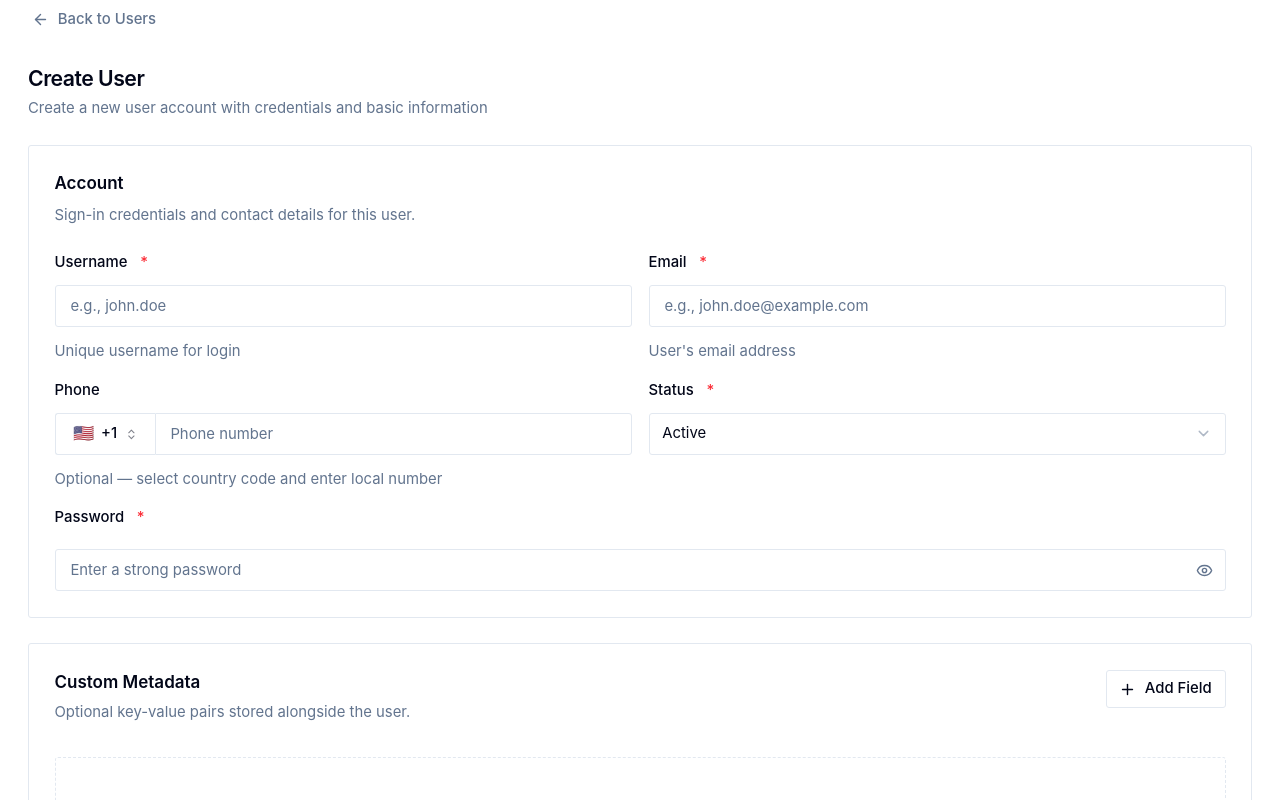
Test: UserAddOrUpdateForm › shows field validation errors for a weak password and a too-short phone on create
Type "newuser" into the field labelled "Username *".
click(343, 306); type("newuser")  # box [54,285,632,328]
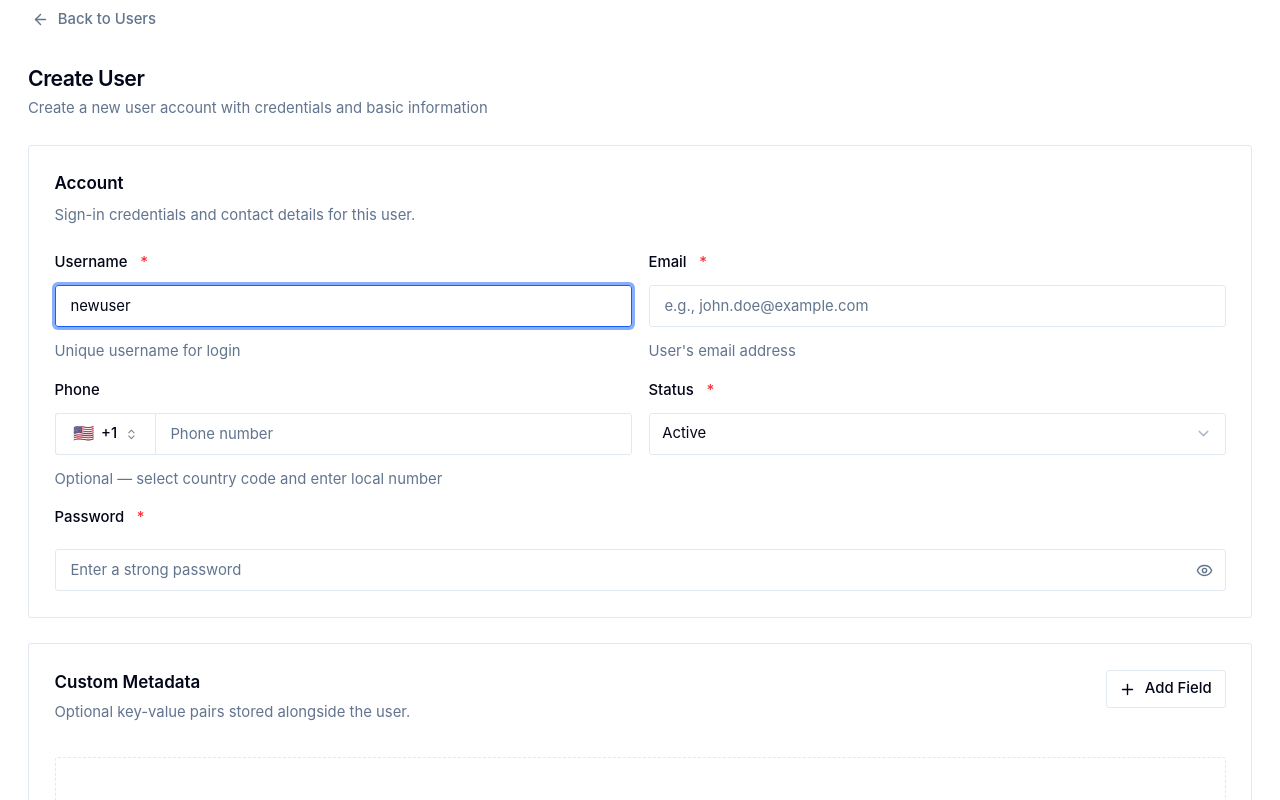
Type "new@test.com" into the field labelled "Email *".
click(937, 306); type("new@test.com")  # box [648,285,1226,328]
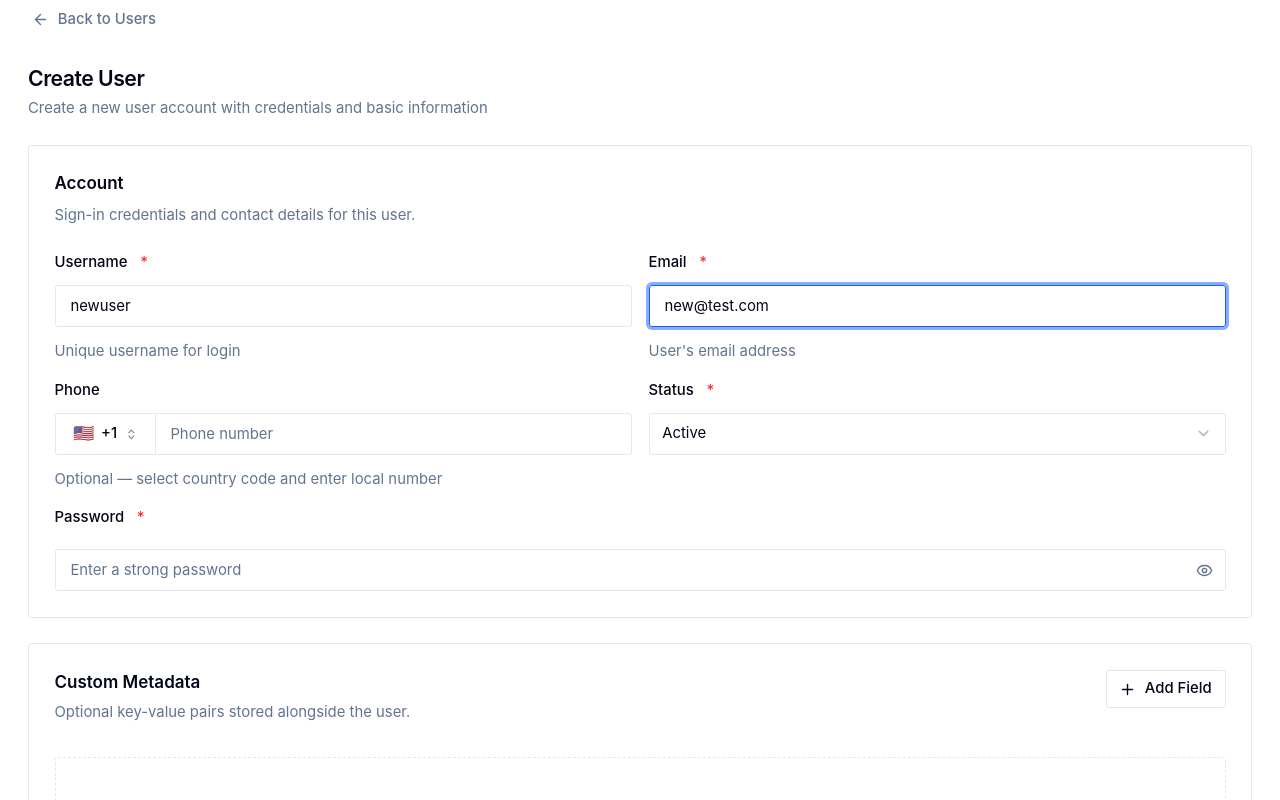
Type "123" into the field labelled "Phone".
click(393, 434); type("123")  # box [154,413,632,455]
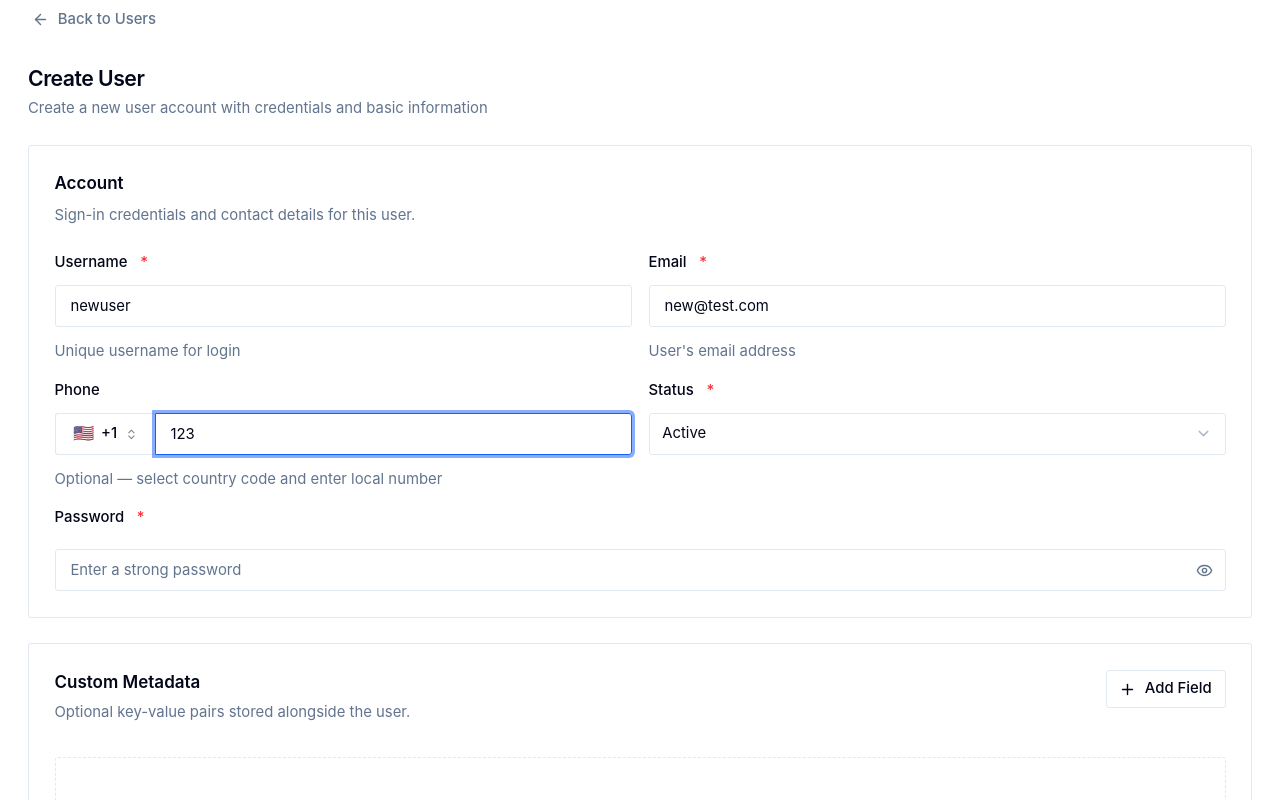
Type "Aa1!" into the password field labelled "Password *".
click(640, 570); type("Aa1!")  # box [54,549,1226,592]
(page scrolled)
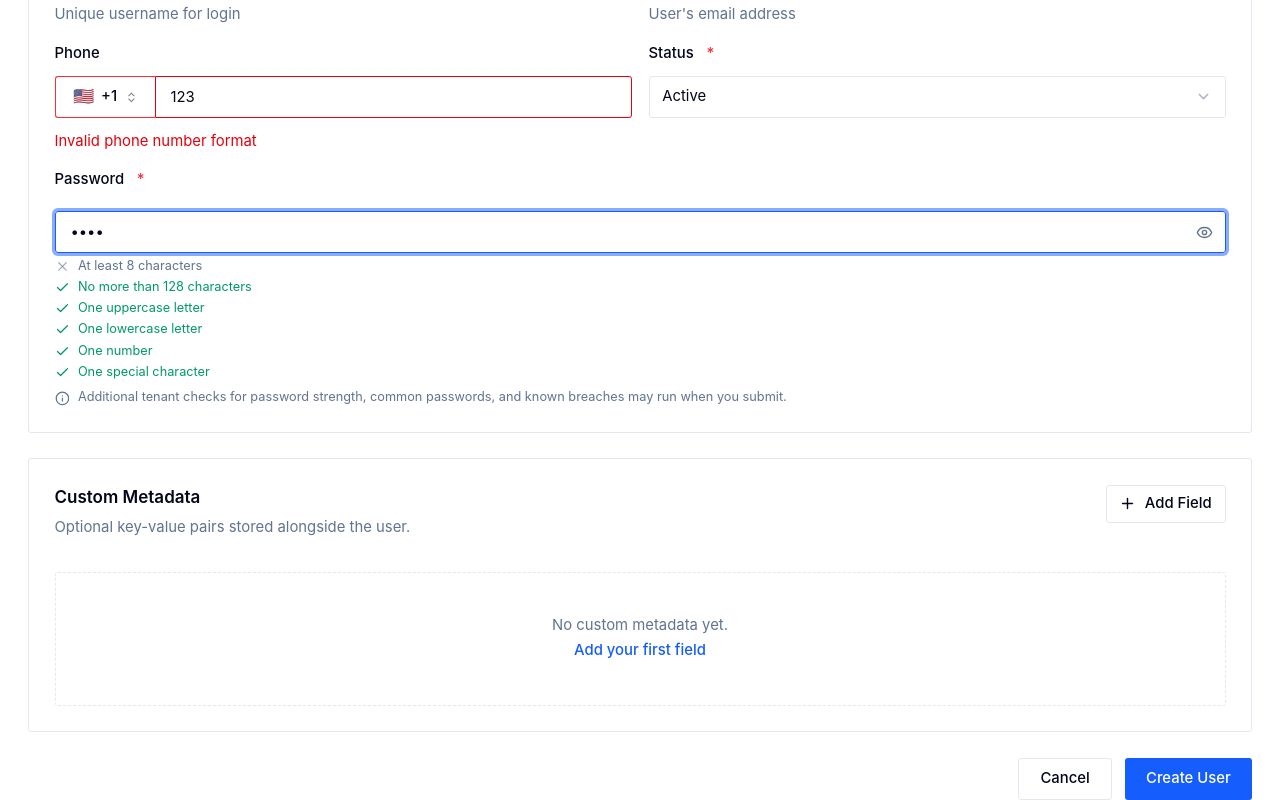
Click the button "Create User".
click(1188, 779)  # box [1125,758,1252,799]
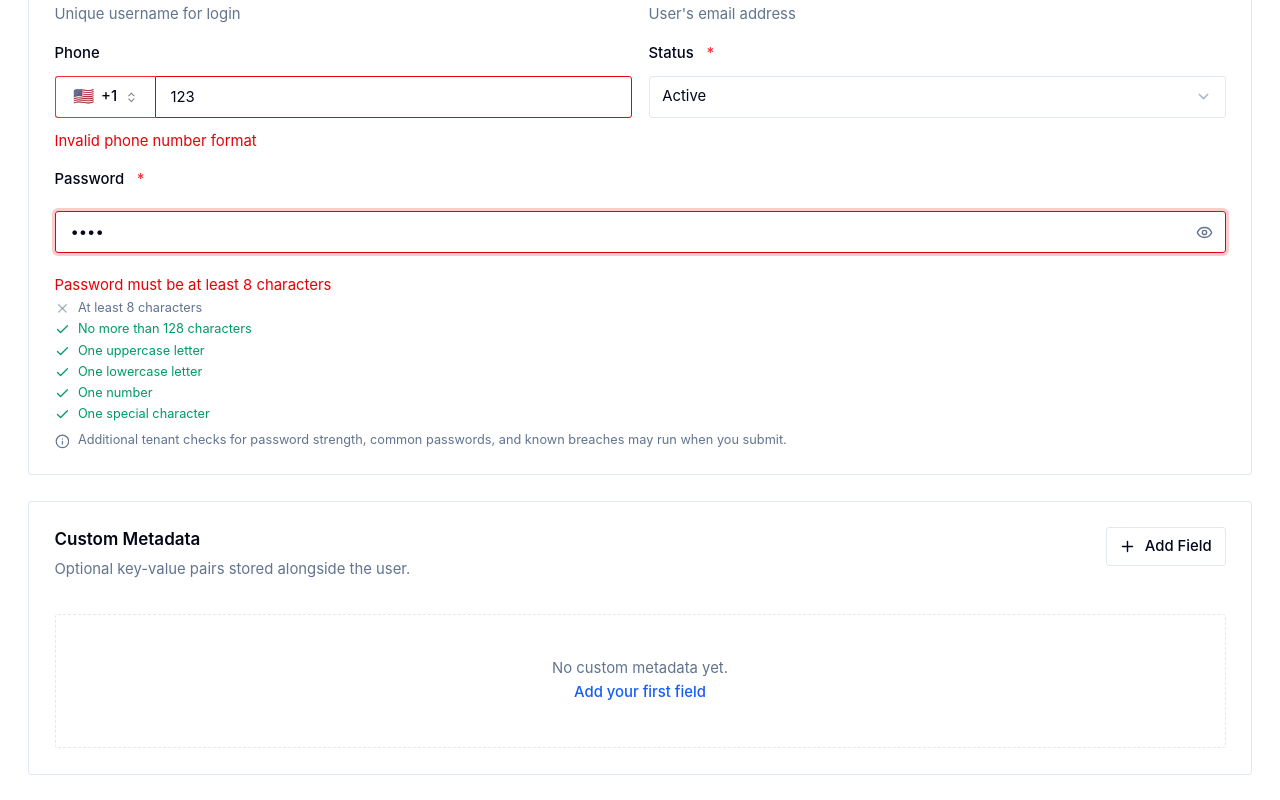
Expected: the text "Invalid phone number format" is shown, [54,132,257,150]
Expected: the text "Password must be at least 8 characters" is shown, [54,276,331,294]
